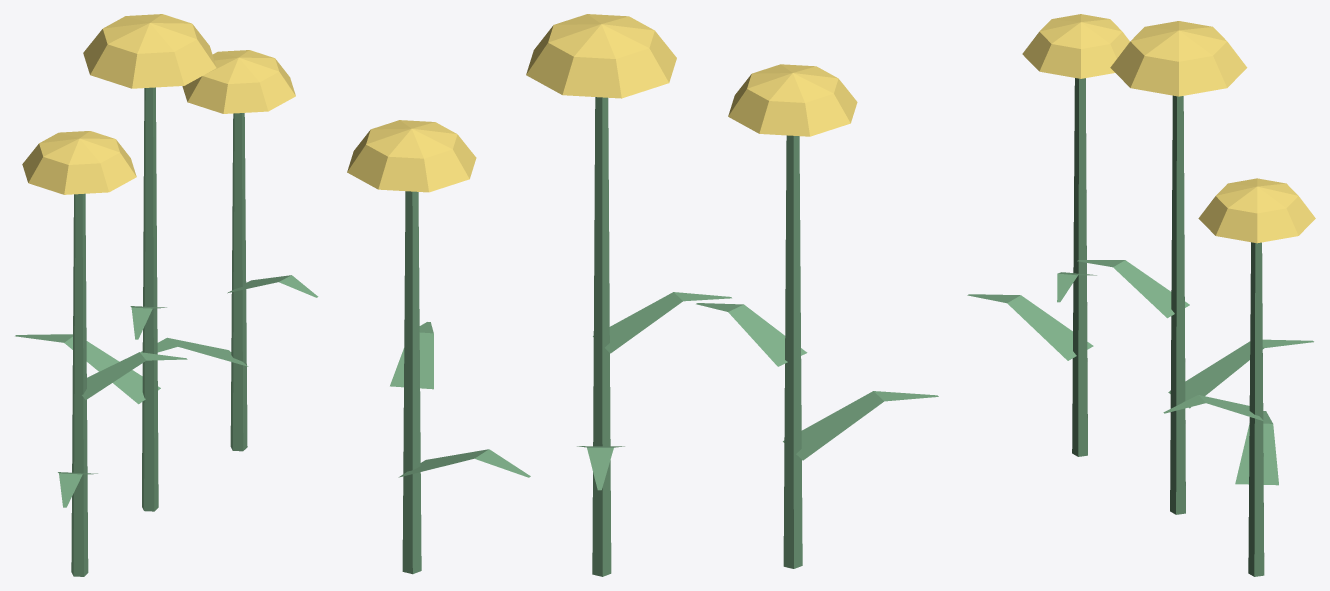
Rendered from flower_yellow.glb.
3 renders of one model, left to right at view 1: azimuth 30°, elevation 25°; view 2: azimuth 150°, elevation 25°; view 3: azimuth 270°, elevation 25°, orthographic. The views are drawn at different scales.
Visible parts, largest first — view 1: flower-yellow; view 2: flower-yellow; view 3: flower-yellow.
Boxes of the visible parts, x1,y1,x2,y2 form: flower-yellow: (15,14,318,576); flower-yellow: (347,14,938,576); flower-yellow: (967,14,1315,576).
Size of the model in its own units: 0.4352 by 0.542 by 0.3563.
